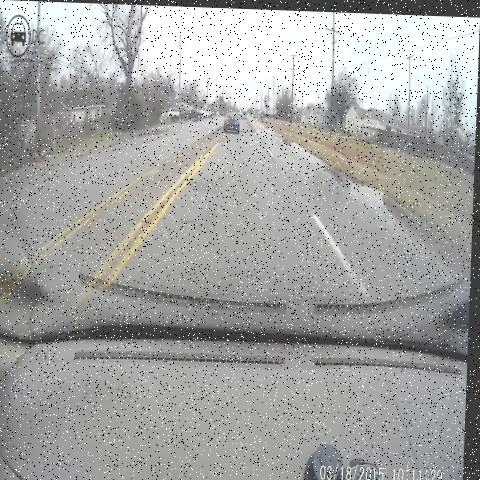pothole: (192, 170, 225, 202), (177, 205, 207, 232), (241, 123, 260, 139)
